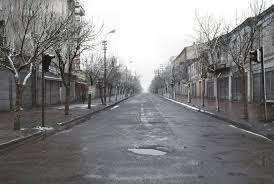strada: (4, 99, 274, 184)
